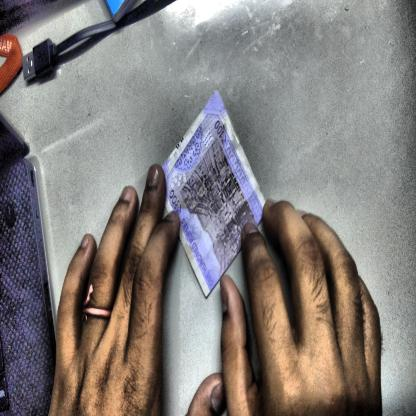Rs100: (211, 116, 230, 150)
